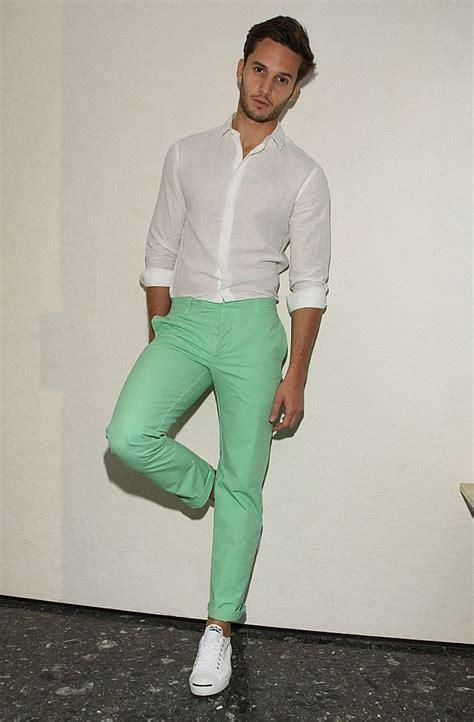pants: (108, 297, 288, 619)
shirt: (140, 112, 332, 310)
